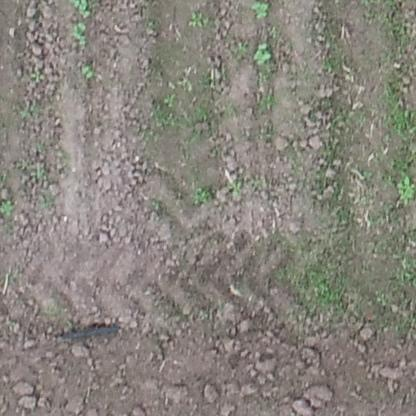vc: (252, 43, 273, 65), (73, 22, 89, 46), (251, 1, 272, 18), (80, 63, 96, 80), (75, 1, 92, 17)
